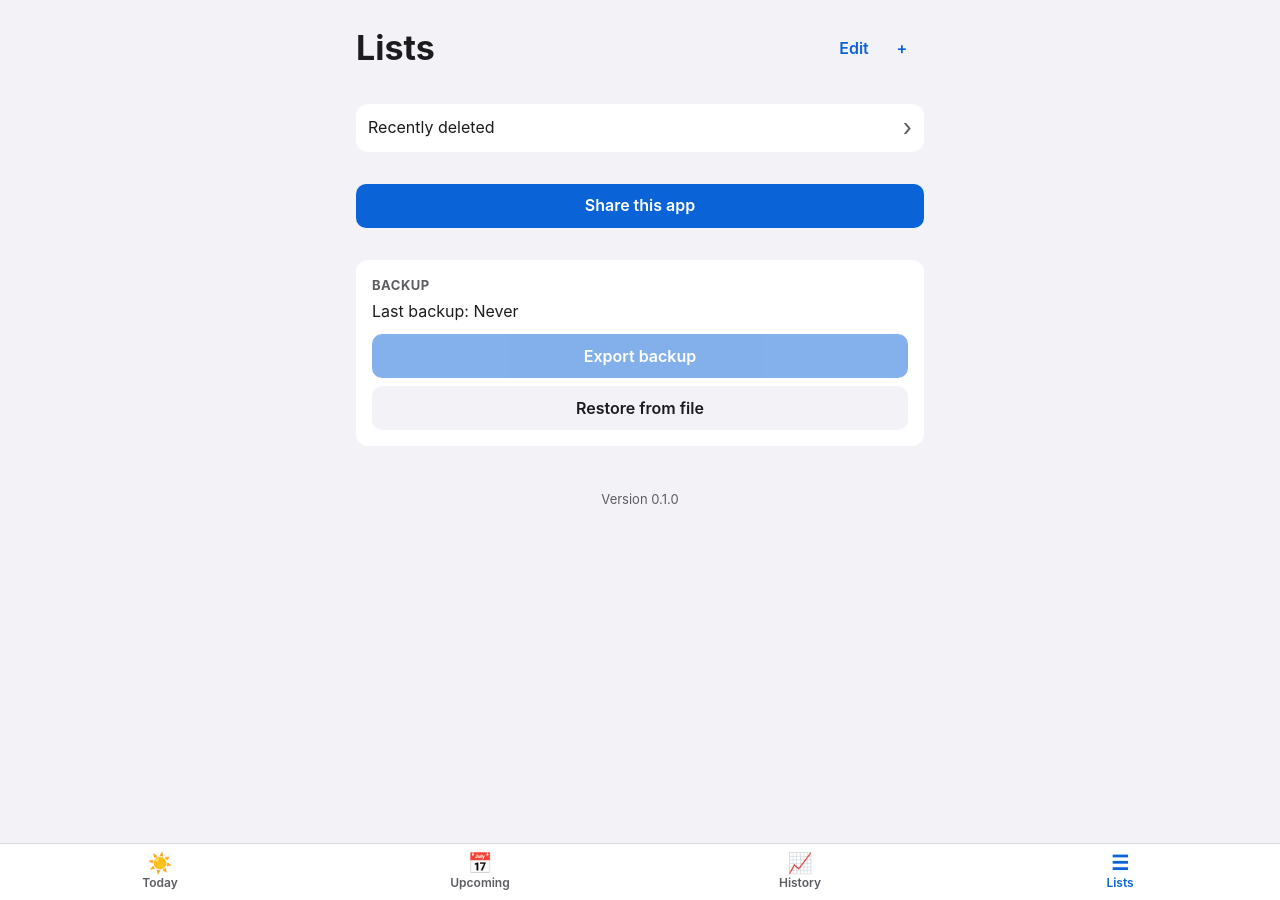
on the Lists tab › the version line is at the bottom and its hold opens the Assistant sheet
Press the mouse on the text "Version 0.1.0": coordinates (640, 499) [601,491,679,507]
Wait 3000 ms
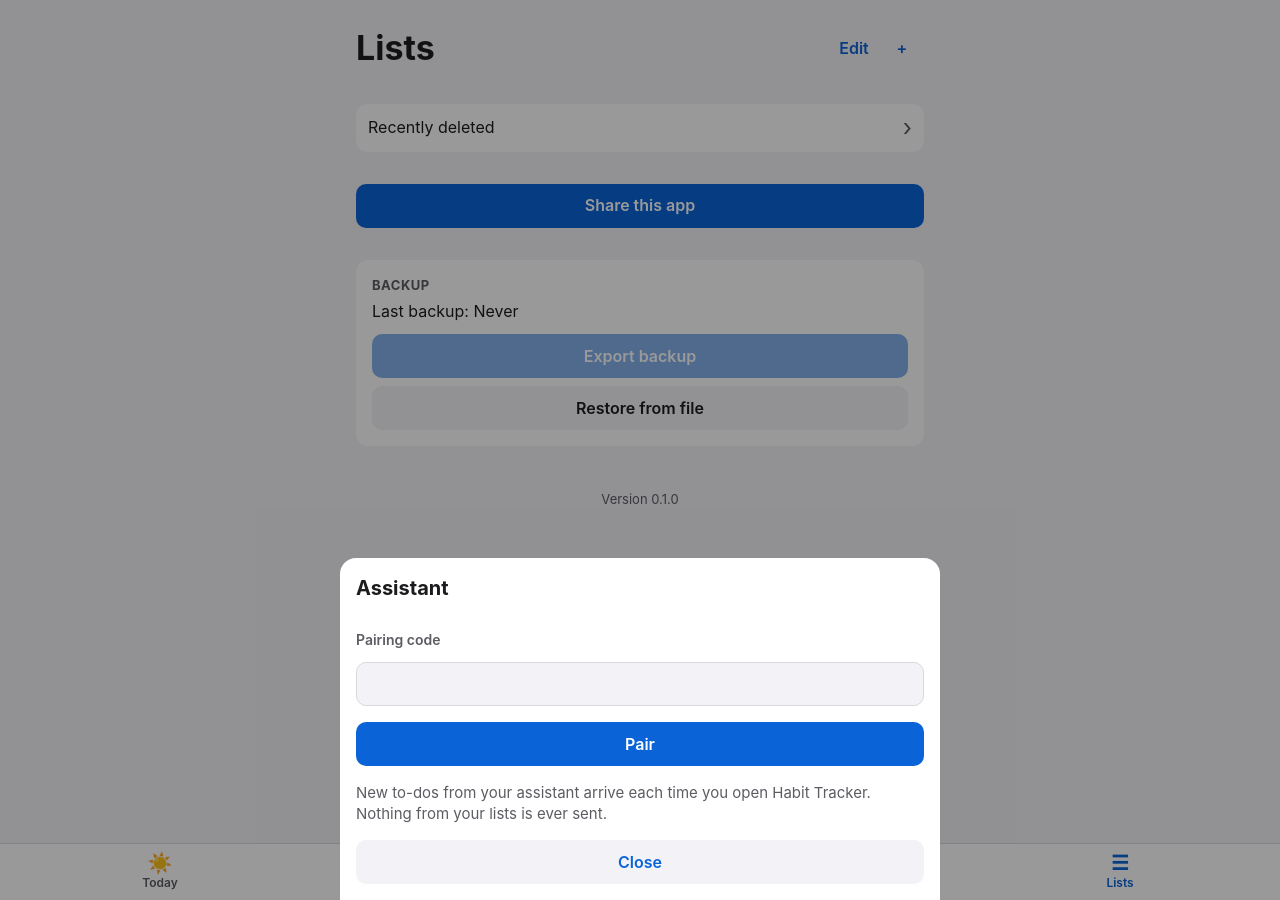
Expected: the dialog "Assistant" is shown, [340,558,940,899]
Click the button "Close": coordinates (640, 862) [356,840,924,884]
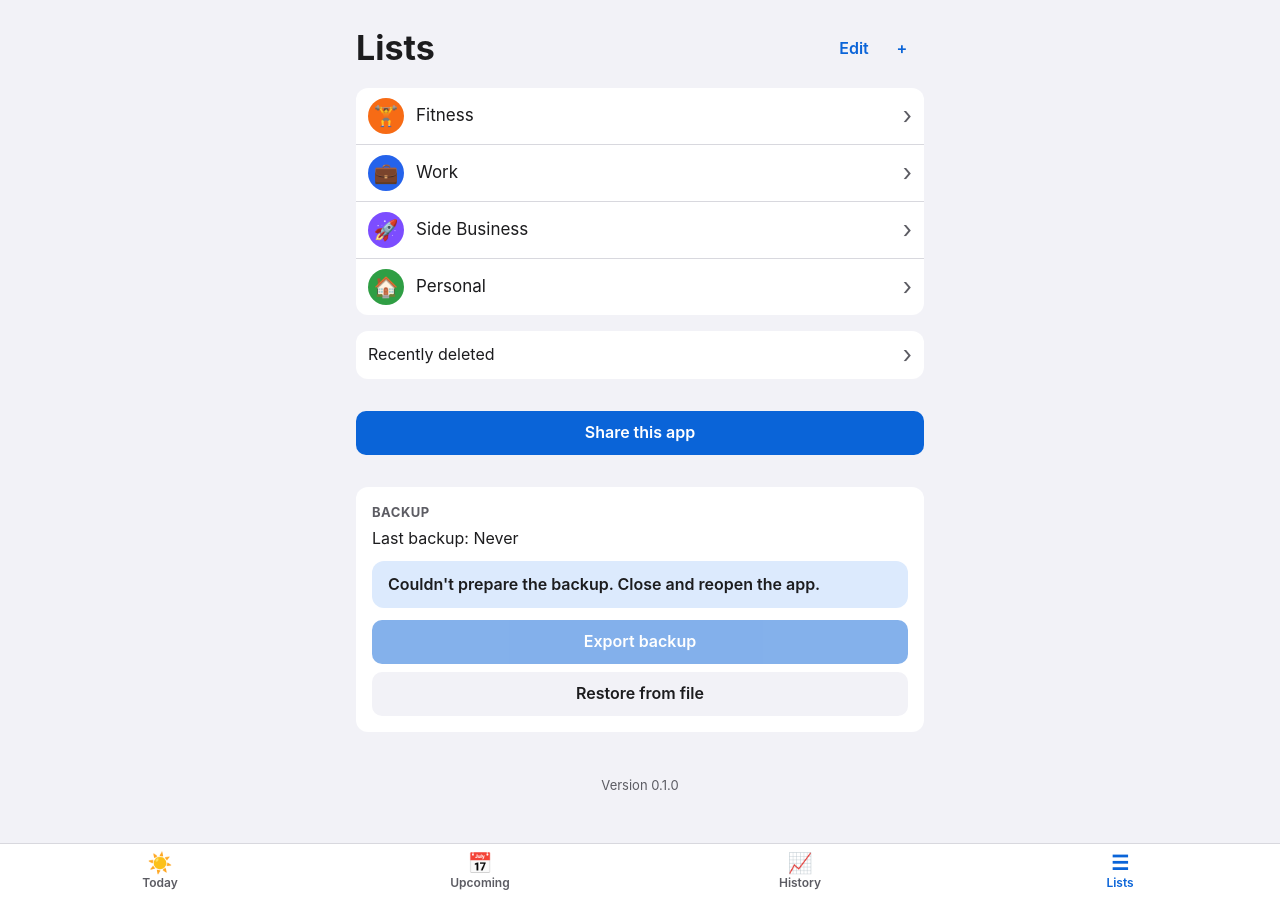
Expected: the heading "Assistant" is gone
